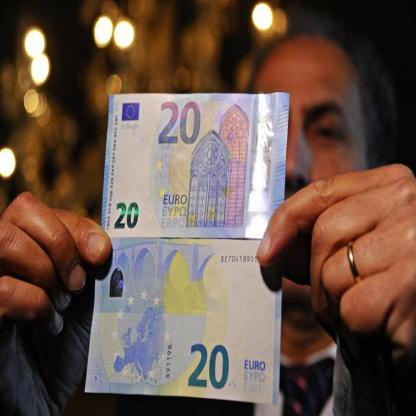billete: (83, 237, 282, 404), (101, 93, 289, 236)
